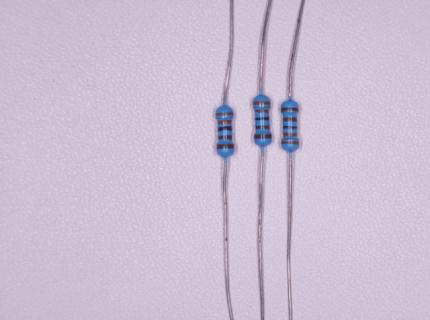Black band: (218, 126, 232, 131), (255, 117, 269, 120), (283, 126, 297, 129)
Brown band: (254, 134, 272, 139), (217, 144, 234, 149), (281, 107, 299, 111), (219, 135, 232, 140), (283, 118, 297, 122), (256, 126, 269, 129)
Orange band: (281, 141, 299, 145), (218, 120, 232, 124), (255, 109, 269, 113), (253, 102, 270, 105), (284, 133, 297, 136), (216, 113, 234, 115)
